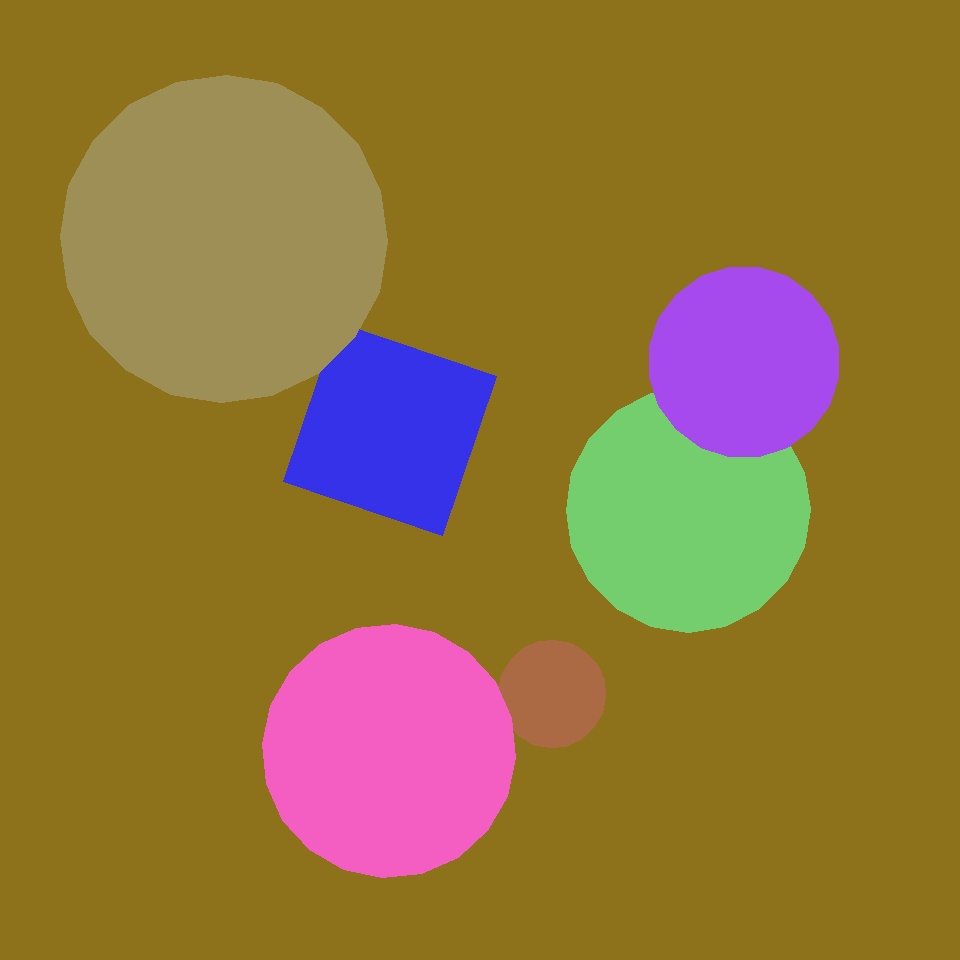square: (245, 475, 573, 804), (187, 446, 481, 740), (284, 322, 496, 536)
triangle: (237, 208, 608, 579), (144, 371, 513, 739), (60, 76, 388, 403), (262, 625, 516, 878), (566, 388, 810, 632), (650, 268, 838, 456), (498, 640, 606, 748), (519, 379, 617, 477)
